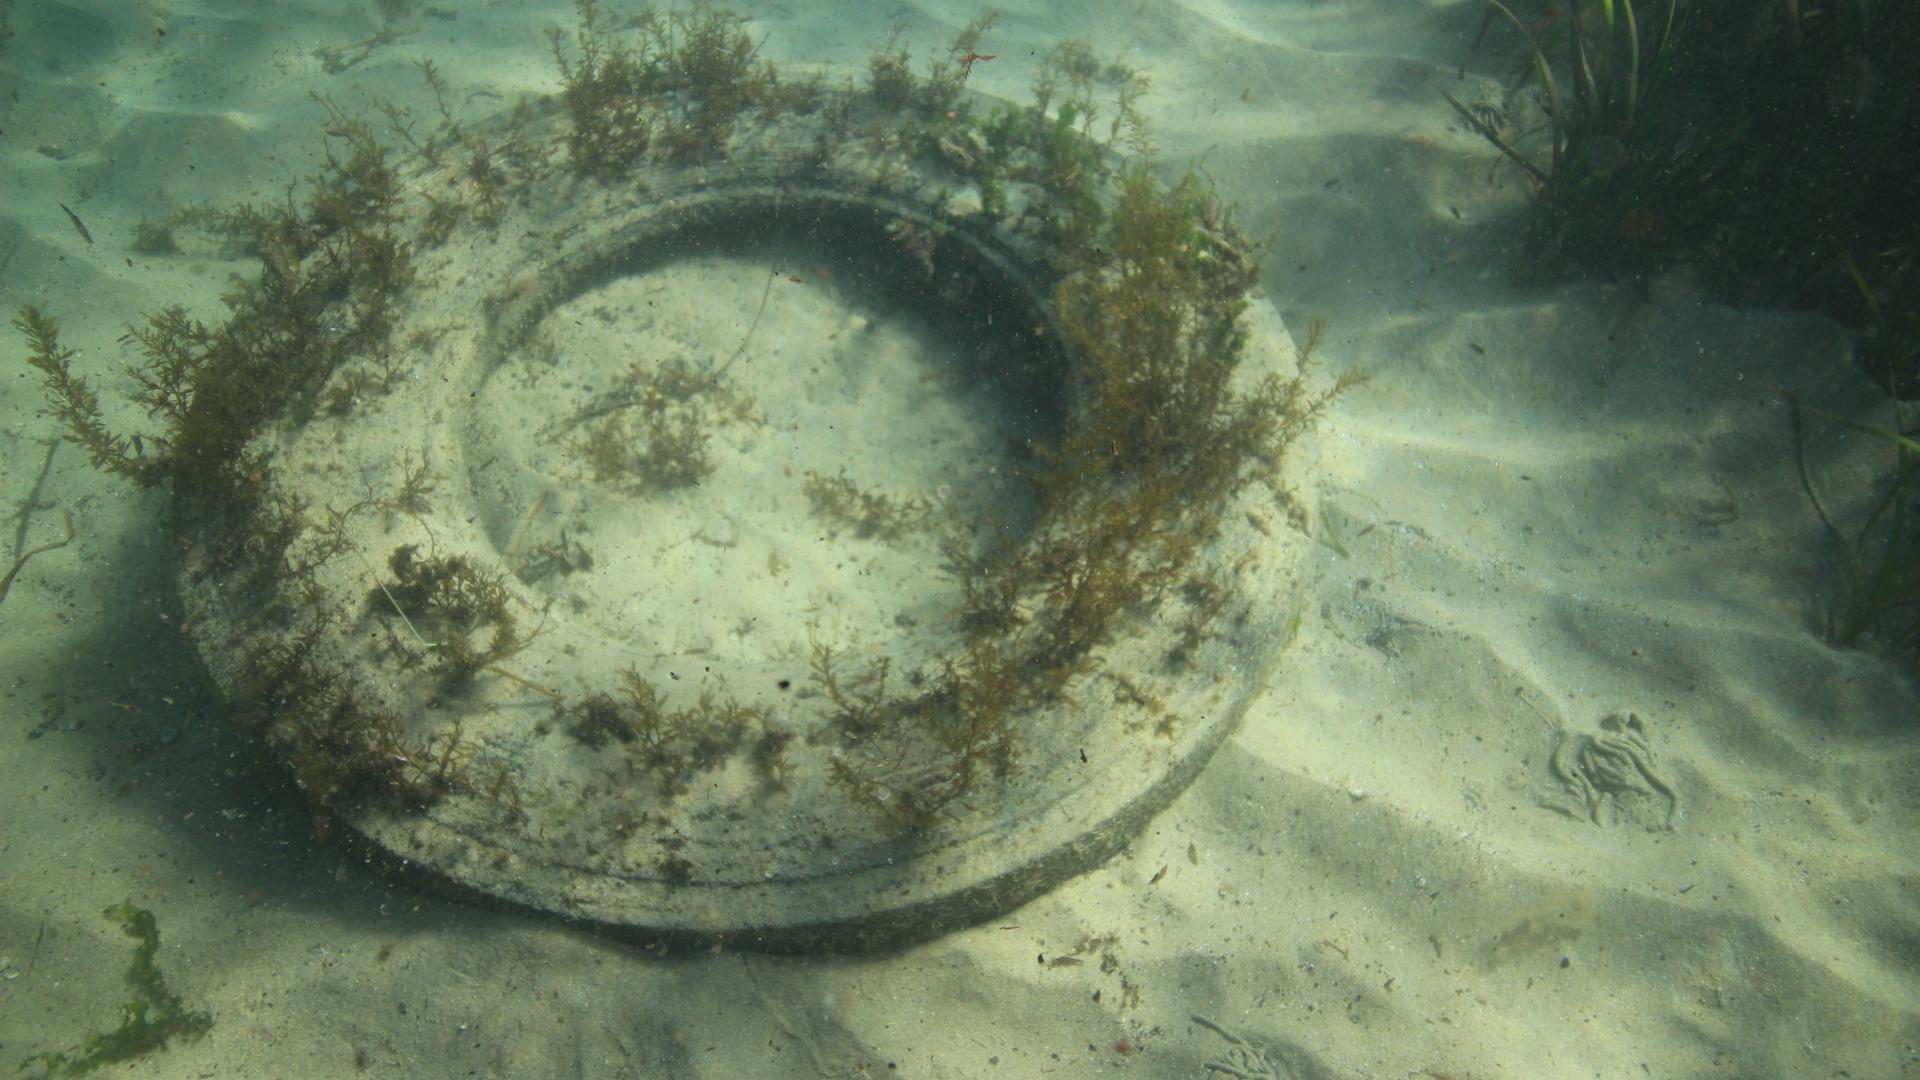tire: (171, 63, 1321, 961)
